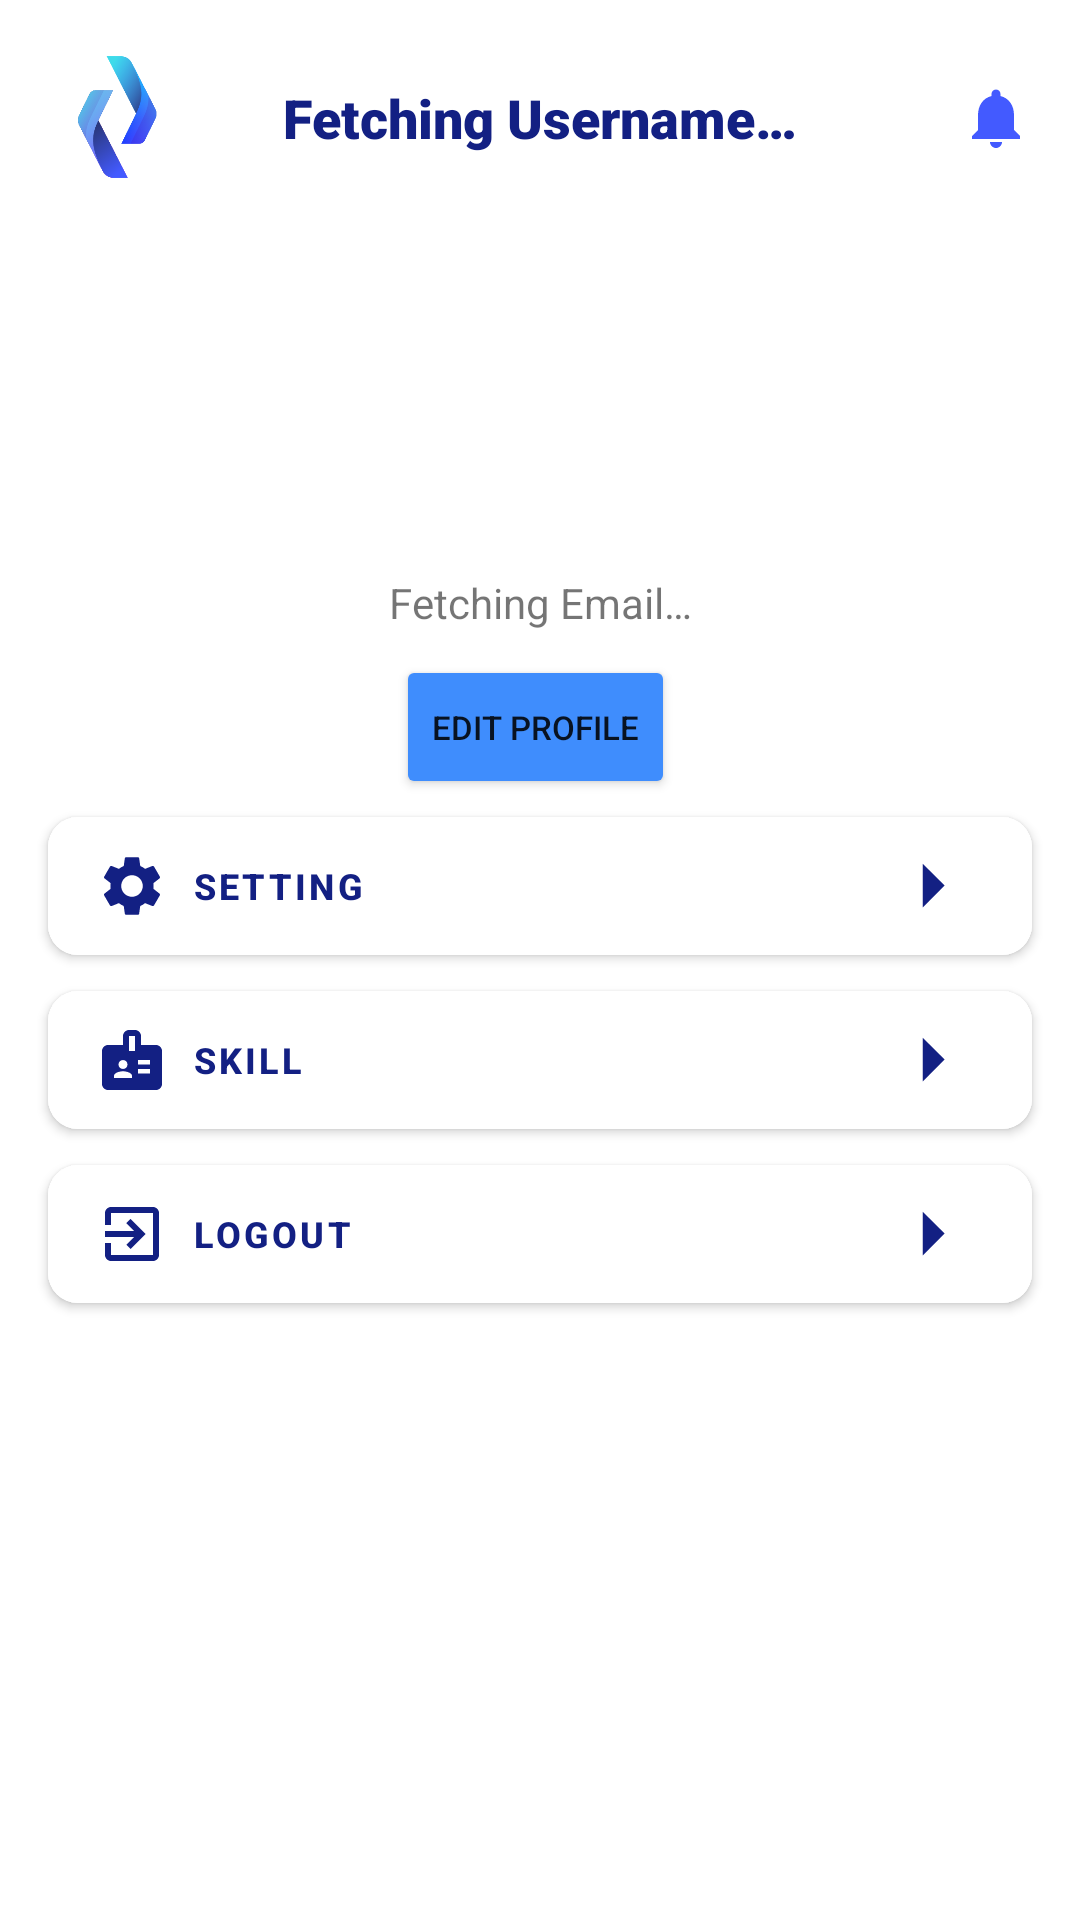

Locate icon controls on the screen. Image size 1080w x 1920h, boxes as (x1,y1,x2,y2).
notifications: (972,89,1020,148)
